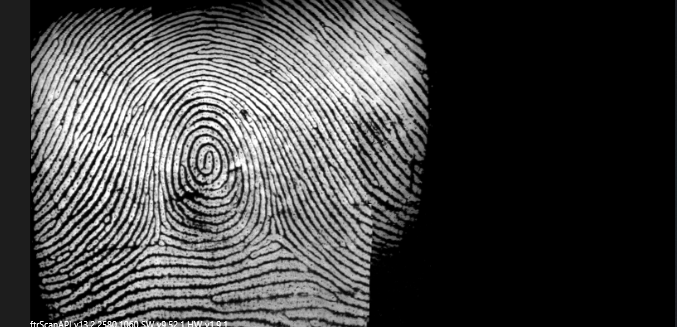deltas: (130, 211, 186, 250), (249, 210, 292, 256)
nucleo: (184, 131, 225, 179)
